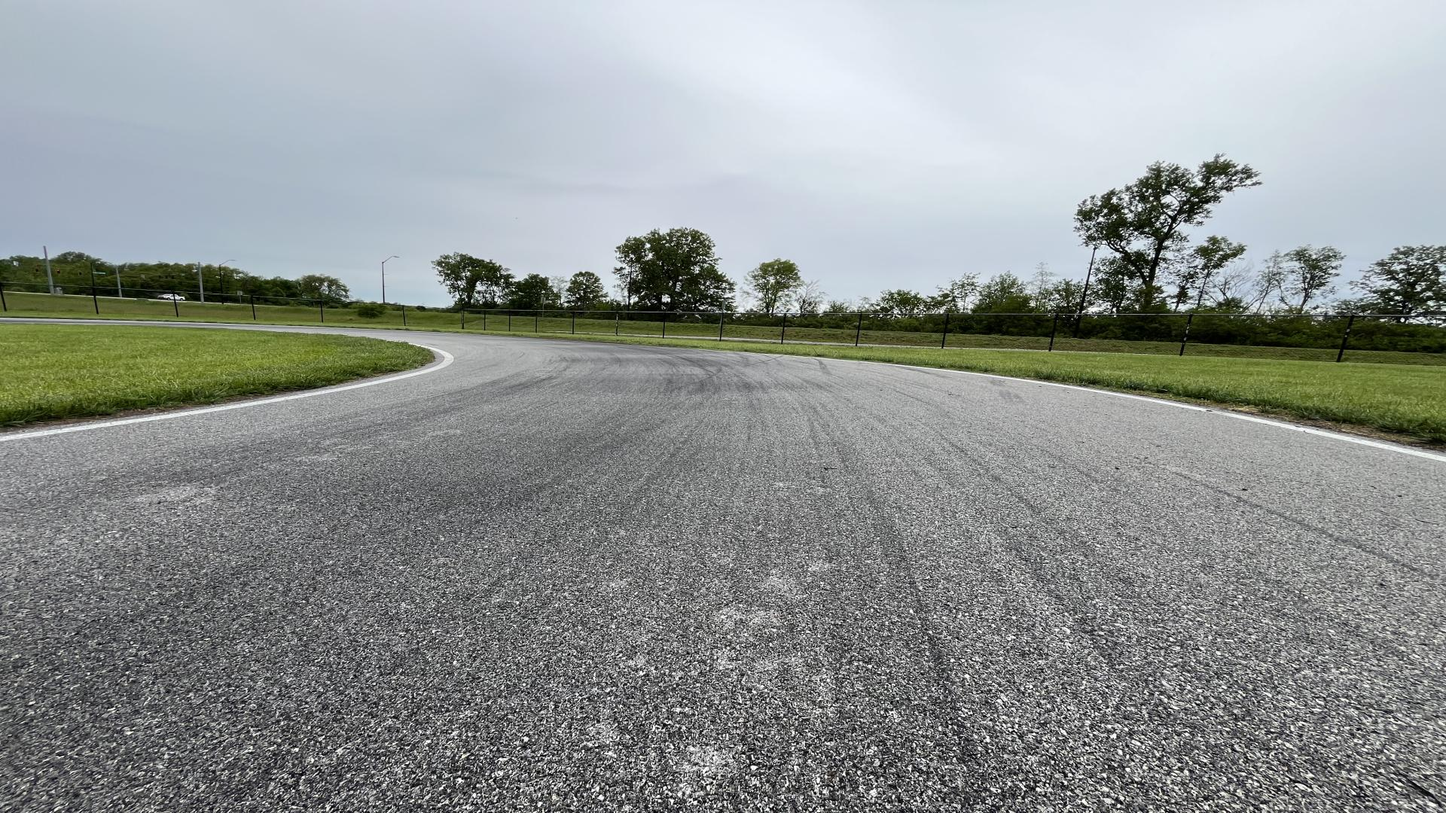white-line: (603, 341, 1445, 463), (0, 335, 457, 445)
